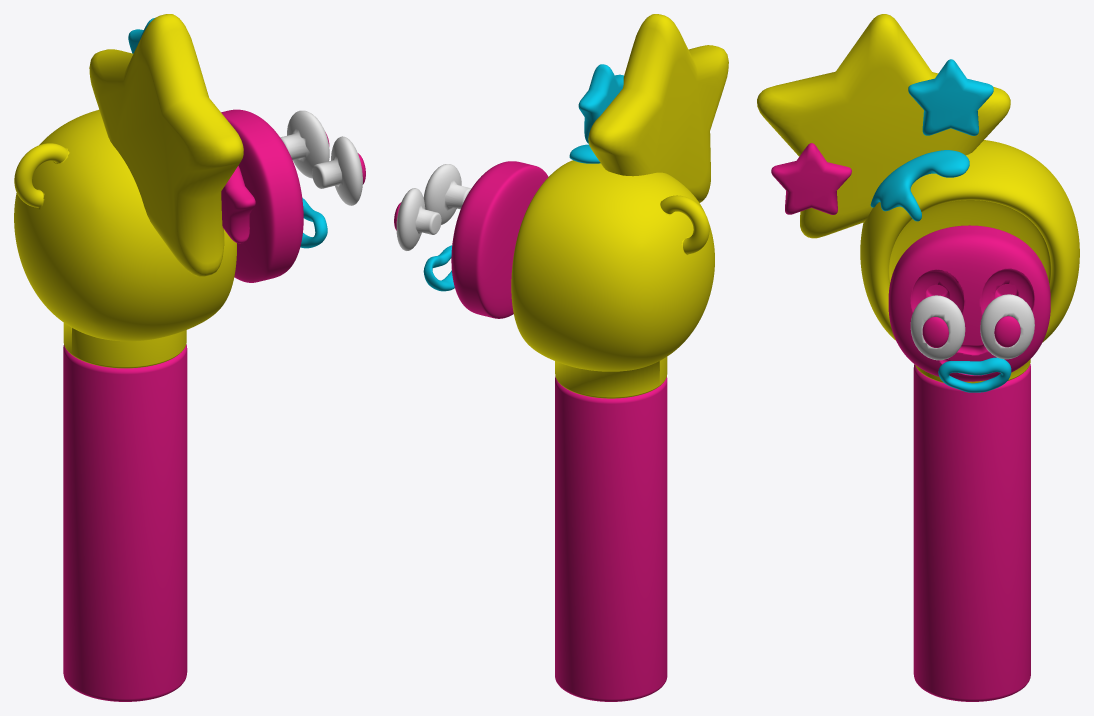
The model's file is toyong.glb.
3 renders of one model, left to right at view 1: azimuth 30°, elevation 25°; view 2: azimuth 150°, elevation 25°; view 3: azimuth 270°, elevation 25°, orthographic. The views are drawn at different scales.
Visible parts, largest first — view 1: BottleCap_Case-2.004, BottleCap_Case-5.004, Circle.004, Cube.114, Cylinder.048, Cylinder.049, Circle.006, Torus.015; view 2: BottleCap_Case-5.004, BottleCap_Case-2.004, Circle.004, Cube.114, Cylinder.049, Cylinder.048, Circle.005, Torus.015; view 3: BottleCap_Case-2.004, Circle.004, BottleCap_Case-5.004, Cube.114, Circle.005, Circle.006, Cube.112, Cylinder.049, Cylinder.048, Torus.015, Sphere.057, Sphere.058.
Part boxes in pixels (x1,y1,x2,y2): BottleCap_Case-2.004: (63,344,187,701); BottleCap_Case-5.004: (14,110,236,368); Circle.004: (89,14,243,276); Cube.114: (221,109,303,282); Cylinder.048: (312,136,362,205); Cylinder.049: (280,110,329,178); Circle.006: (221,166,255,243); Torus.015: (300,198,327,248); BottleCap_Case-5.004: (511,160,714,398); BottleCap_Case-2.004: (555,376,667,701); Circle.004: (588,14,728,202); Cube.114: (451,161,548,318); Cylinder.049: (396,188,441,250); Cylinder.048: (423,164,471,224); Circle.005: (578,64,623,143); Torus.015: (423,245,454,291); BottleCap_Case-2.004: (913,364,1030,701); Circle.004: (757,14,1010,238); BottleCap_Case-5.004: (860,140,1079,383); Cube.114: (888,225,1050,381); Circle.005: (908,59,993,135); Circle.006: (771,143,851,214); Cube.112: (870,150,969,221); Cylinder.049: (980,294,1034,359); Cylinder.048: (910,295,965,360); Torus.015: (938,357,1011,392); Sphere.057: (994,316,1020,347); Sphere.058: (922,317,948,347).
Bounding box in the file's own units: 0.0812 × 0.1653 × 0.0732.
